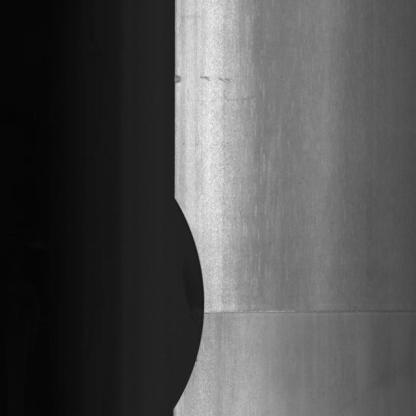crescent_gap: (163, 186, 208, 416)
welding_line: (203, 304, 416, 337)
